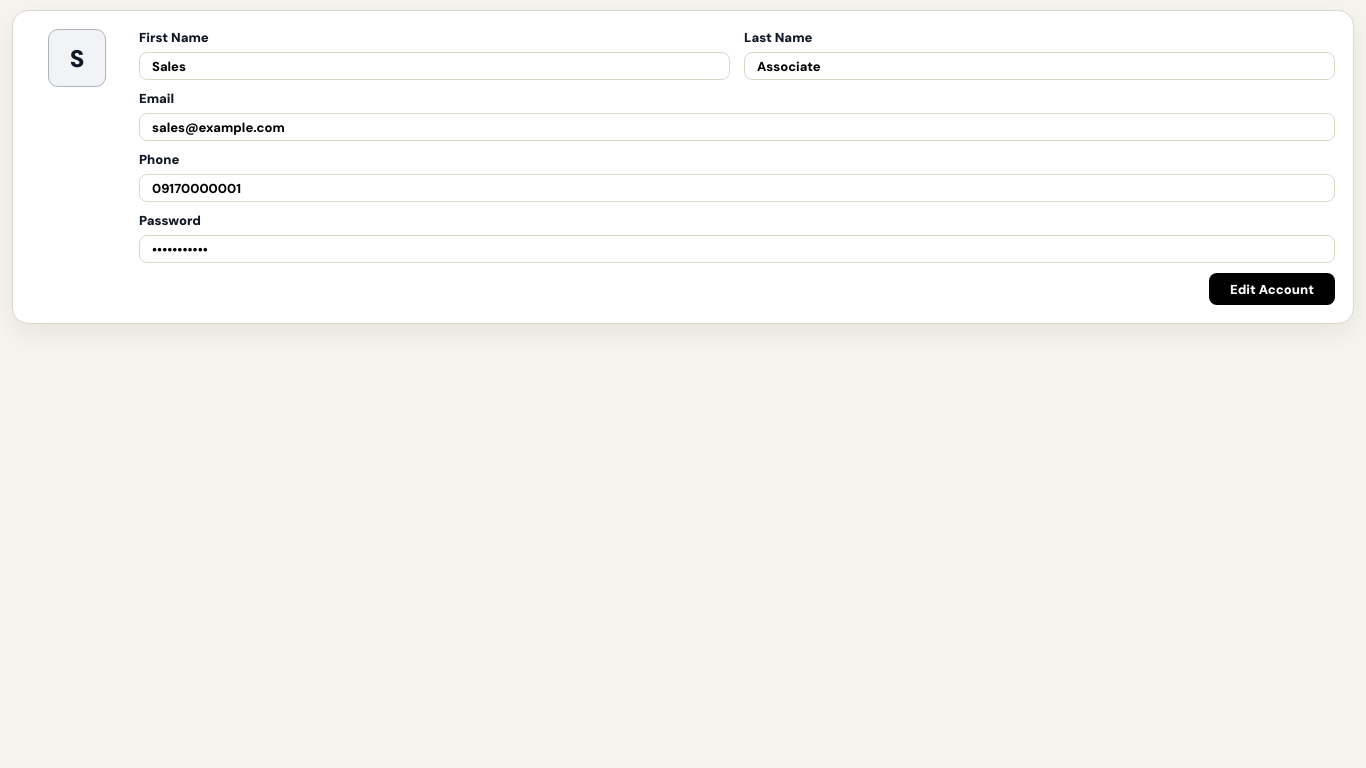
Test case: Sales Associate Staff Profile parity › Sales Associate update submits only permitted self-profile fields and reflects refreshed values
This screenshot has width=1366, height=768.
Click the button "Edit Account" at coordinates (1272, 289), box x1=1209 y1=273 x2=1335 y2=305
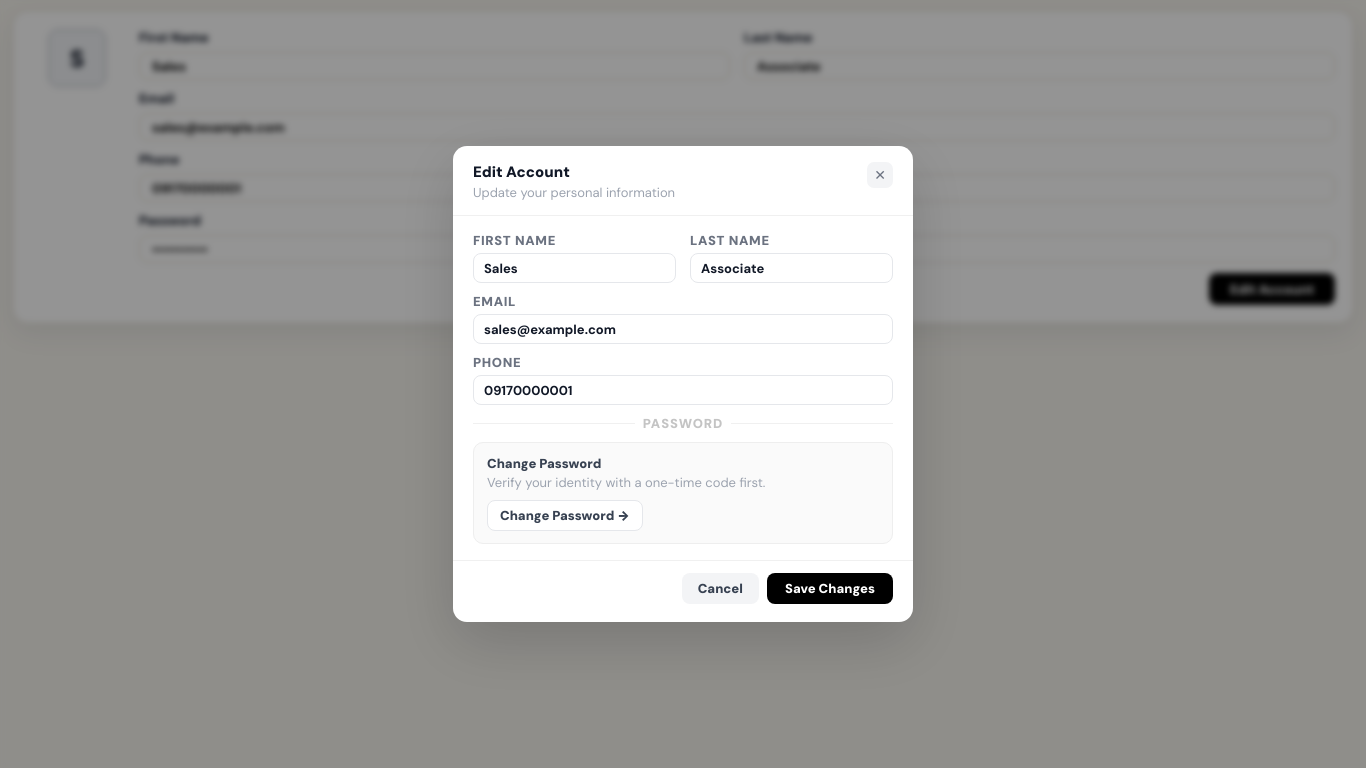
Replace the text in the field named "Edit first name" with "  Sasha  " at coordinates (574, 268), box x1=473 y1=253 x2=676 y2=283
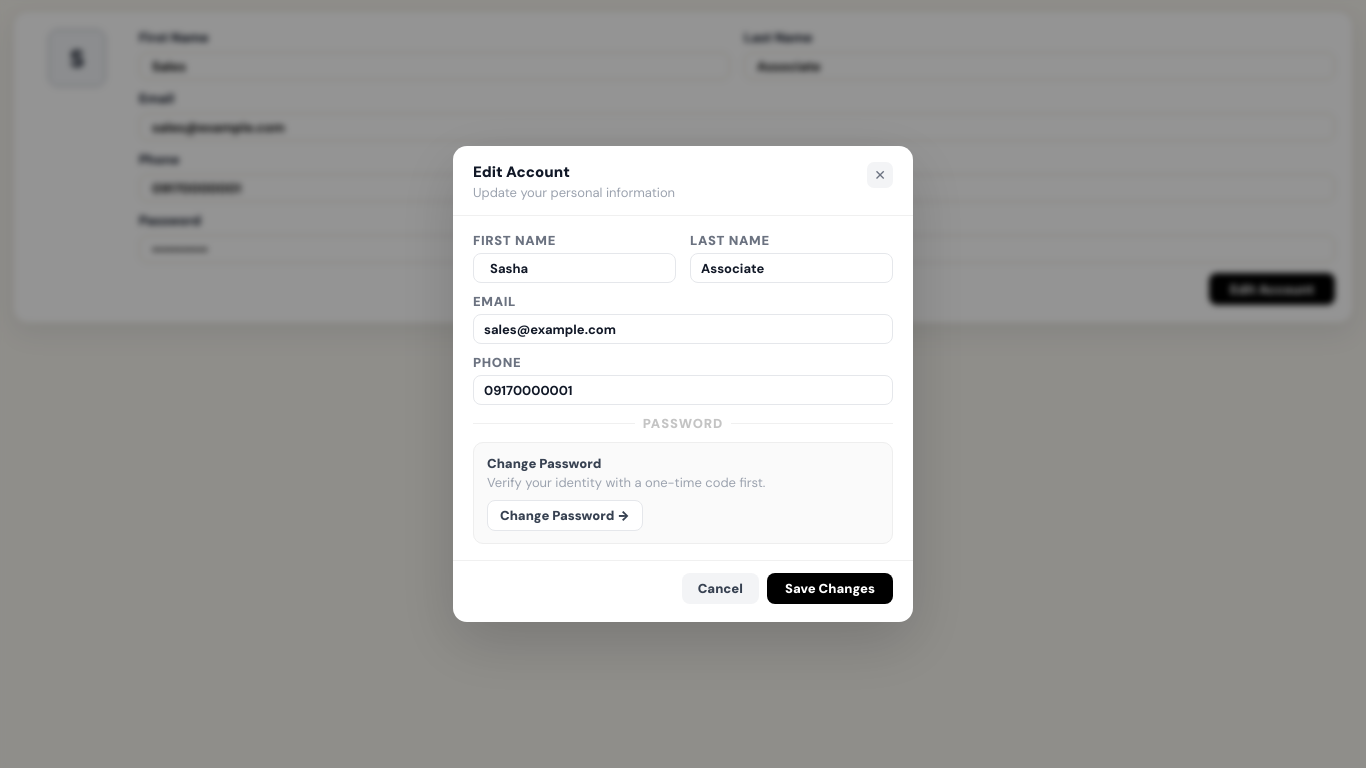
Replace the text in the field named "Edit email" with " Sasha@Example.com " at coordinates (683, 329), box x1=473 y1=314 x2=893 y2=344
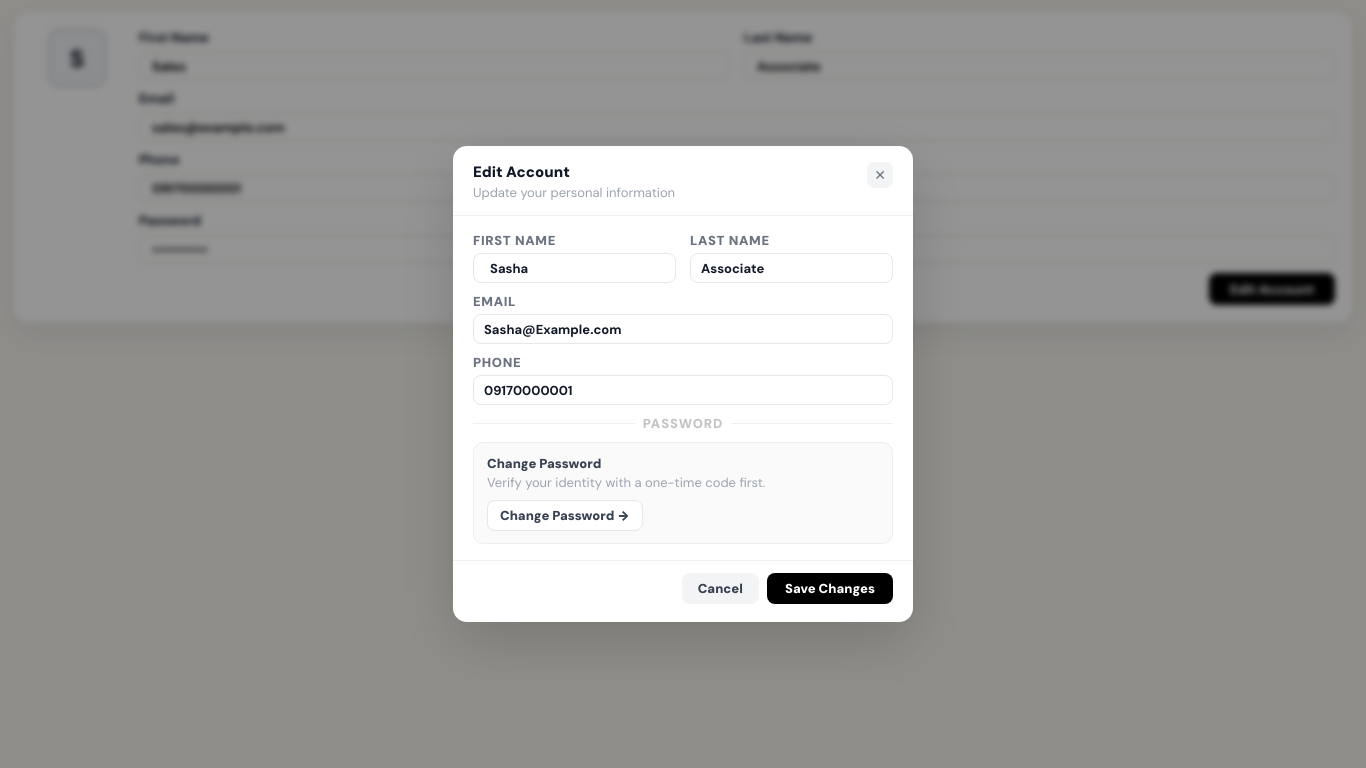
Replace the text in the field named "Edit phone" with "0917-999-8888" at coordinates (683, 390), box x1=473 y1=375 x2=893 y2=405
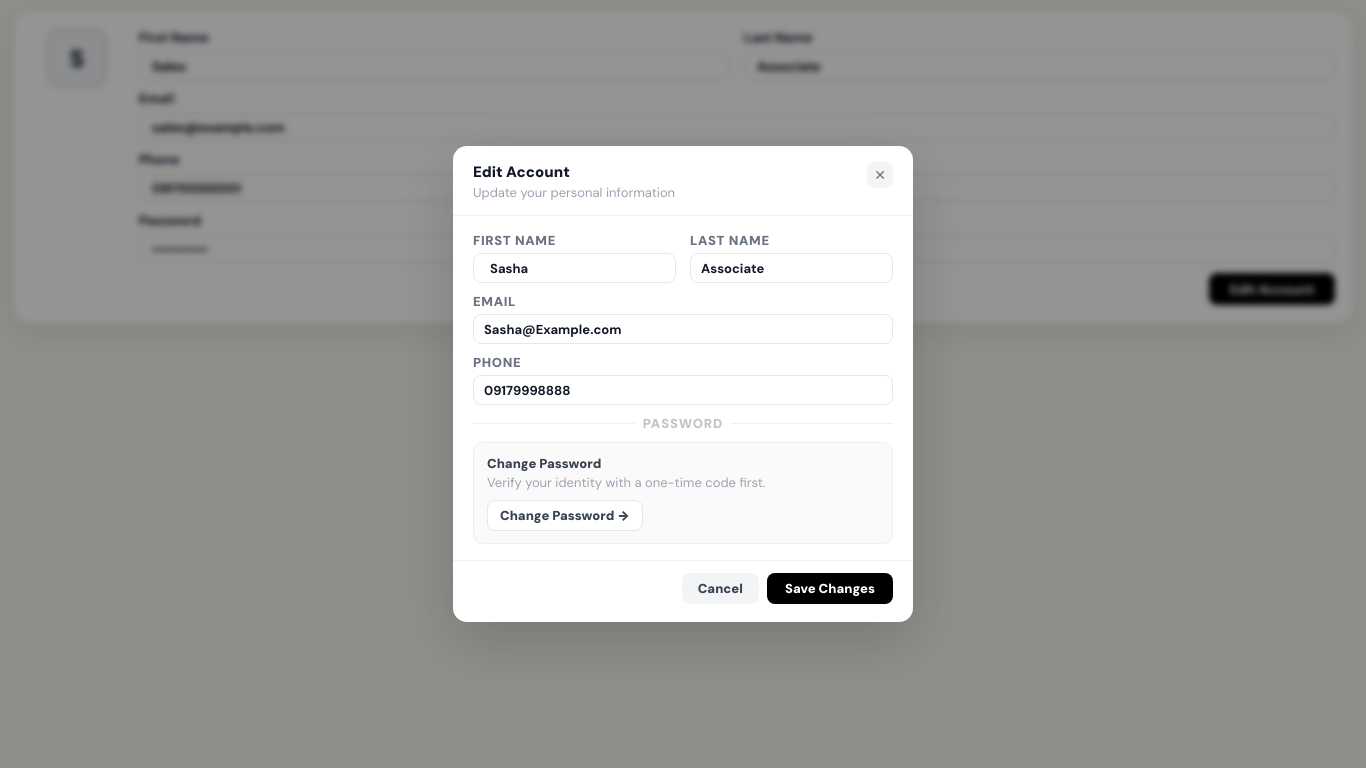
Click the button "Save Changes" at coordinates (830, 588), box x1=767 y1=573 x2=893 y2=604
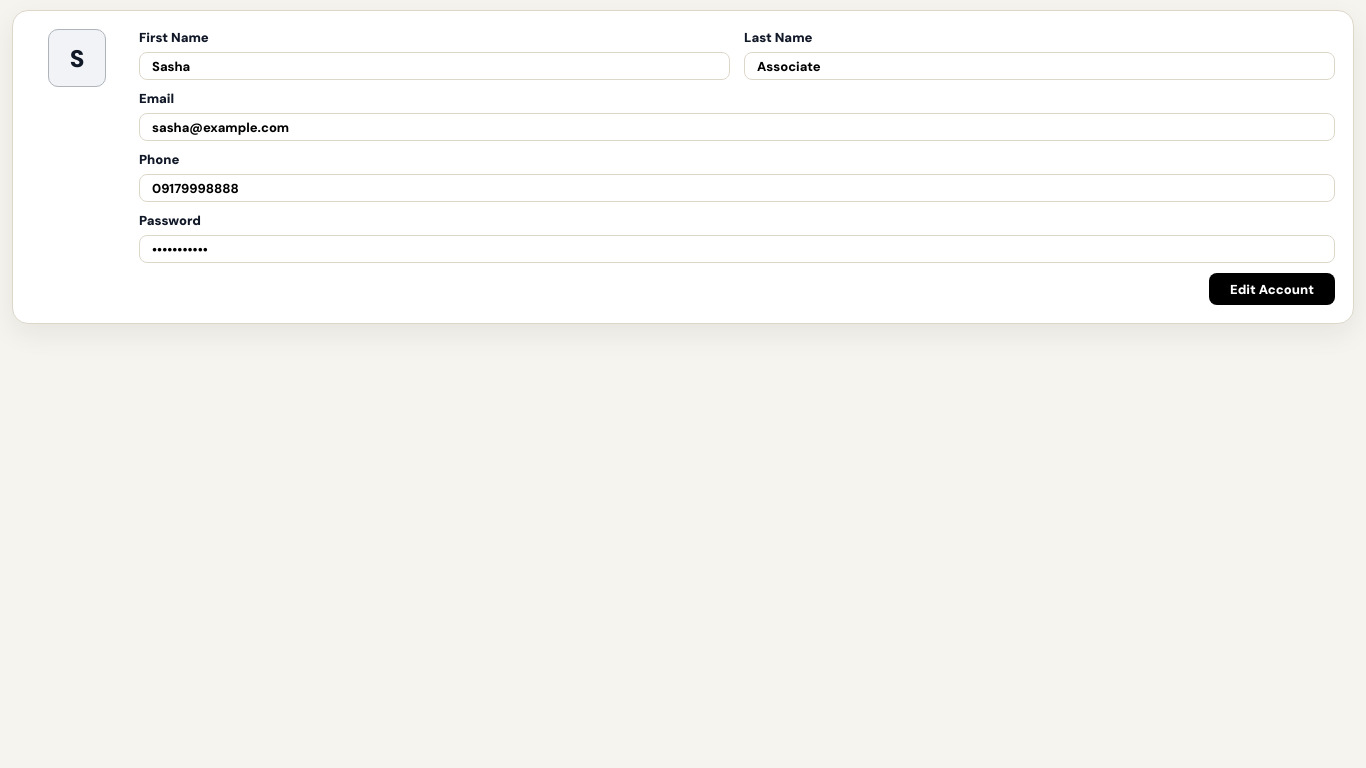
Result: the text "Update your personal information" is gone
Result: the field showing "Sasha" below "First Name" is shown at x1=139 y1=52 x2=730 y2=80
Result: the field showing "sasha@example.com" below "Email" is shown at x1=139 y1=113 x2=1335 y2=141
